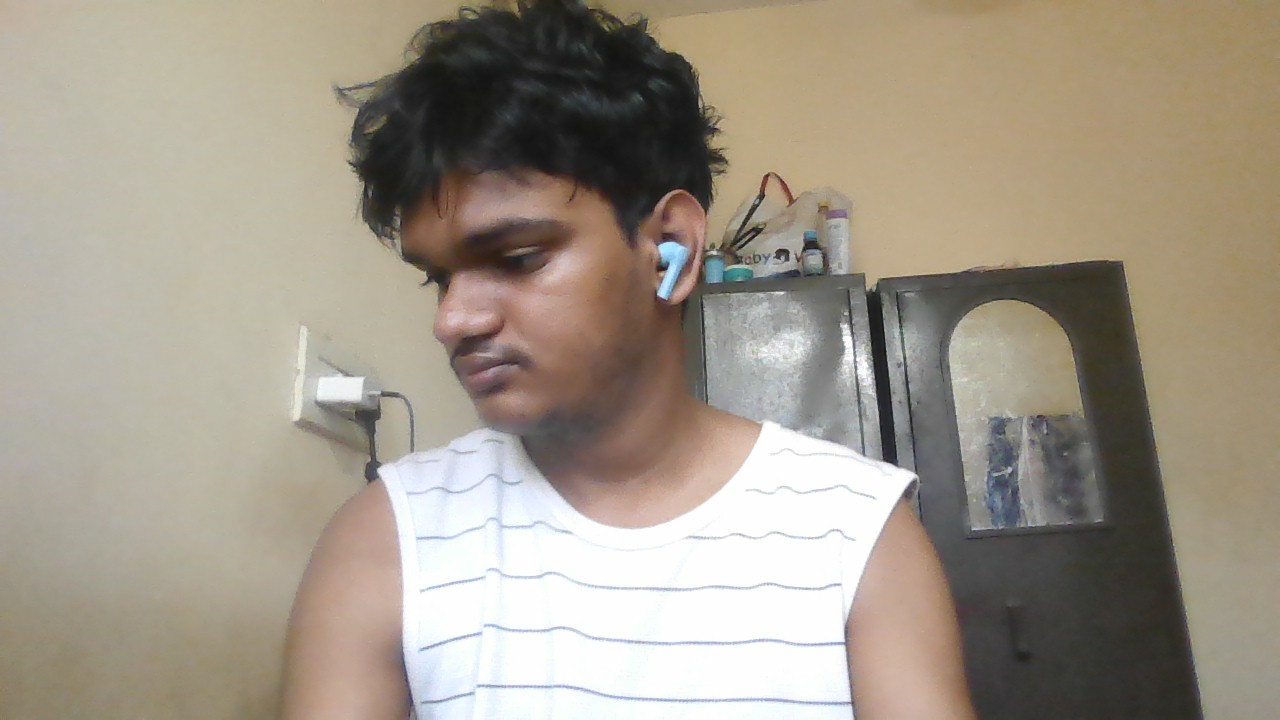earphone: (652, 236, 691, 299)
